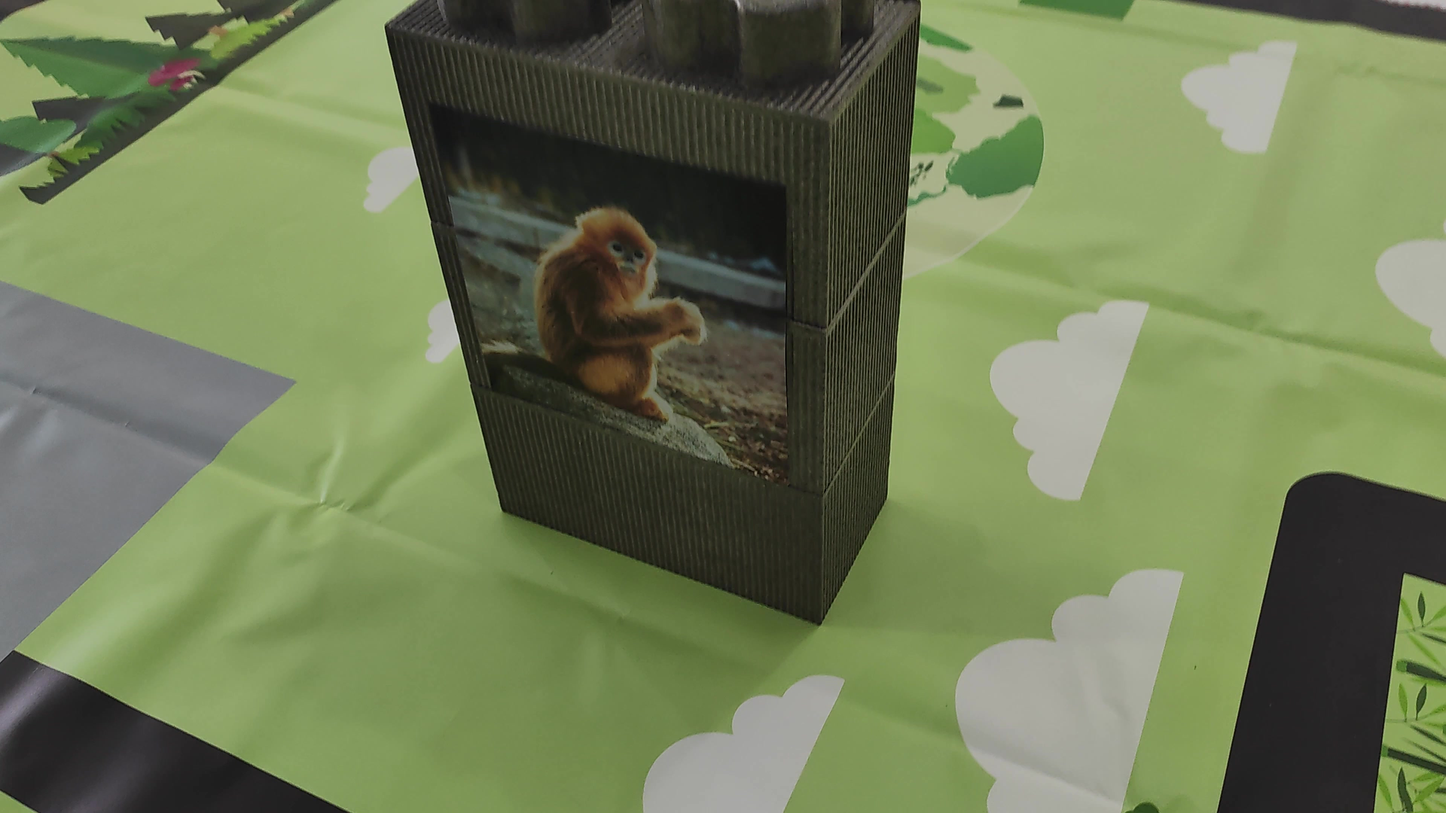monkey: (496, 178, 726, 426)
